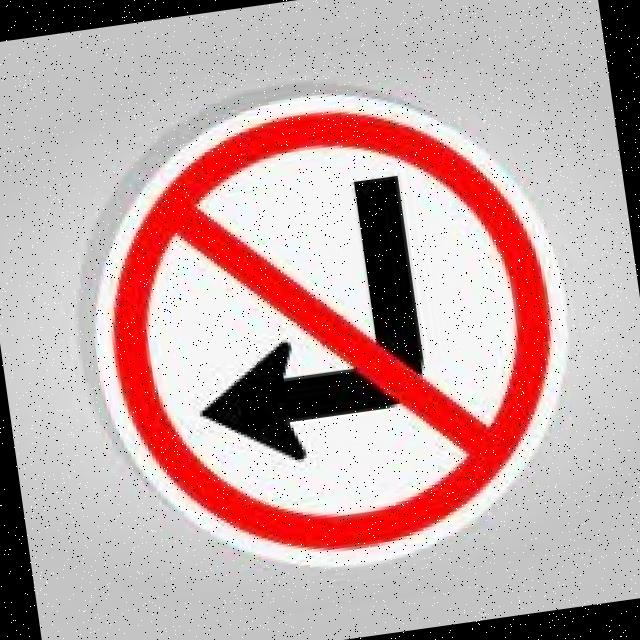do_not_turn_right: (59, 55, 606, 606)
